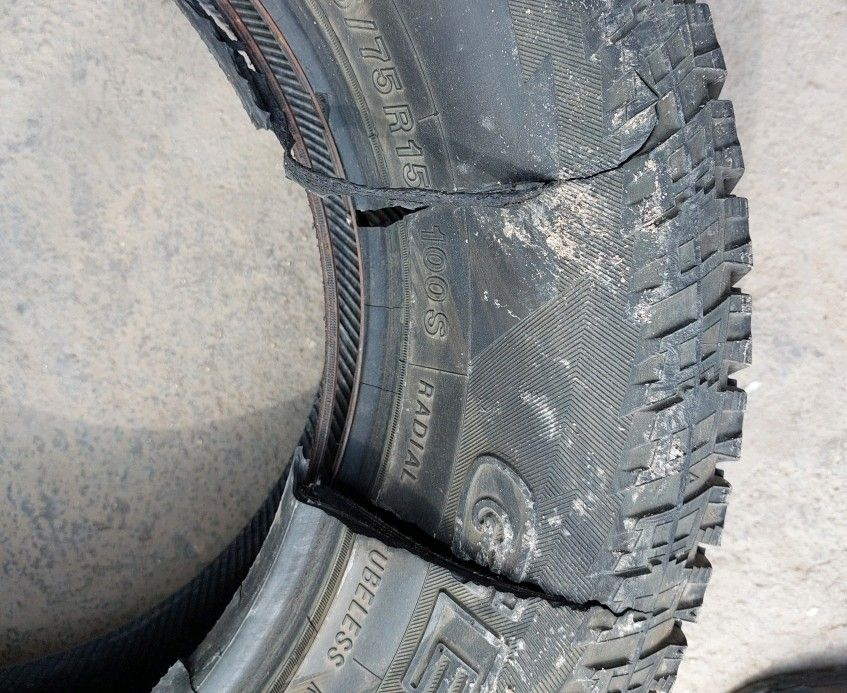bead_damage: (181, 5, 677, 617)
